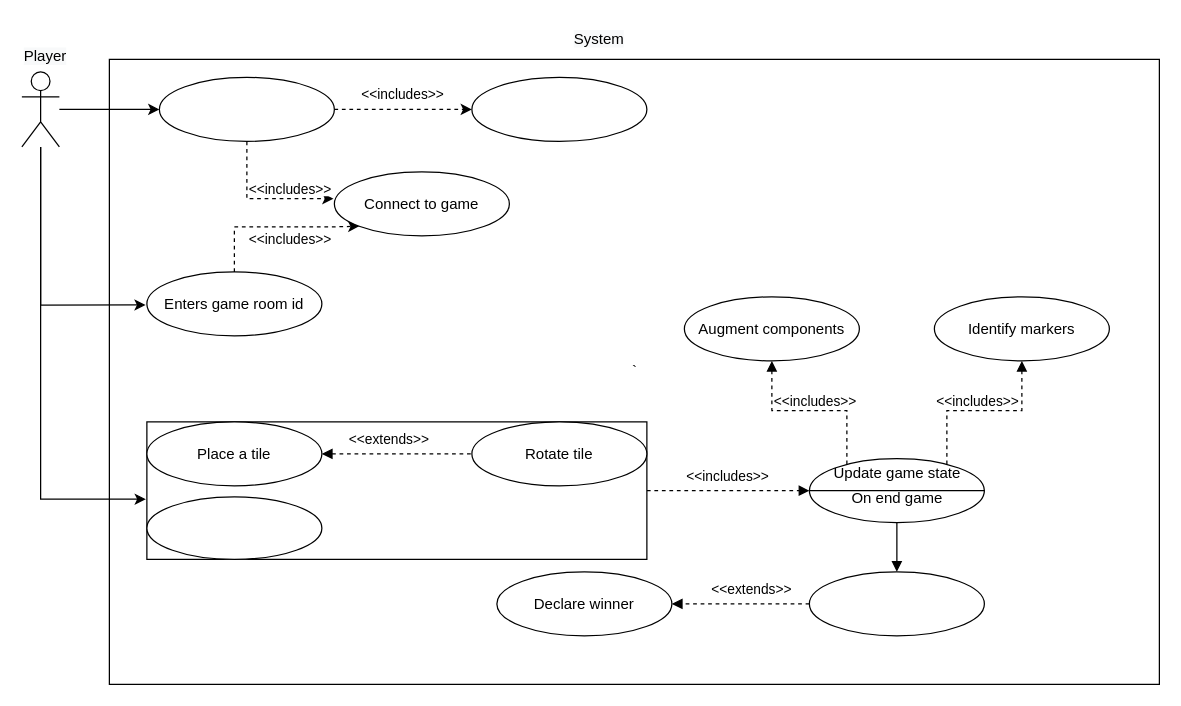
This 1181x706 diagram has some shape labels left out. Each missing label, with the centre of its shape:
Calculate points: the point at 896,603
Creates new game room: the point at 246,108
Generates new game id: the point at 559,108
Place a meeple: the point at 234,527
